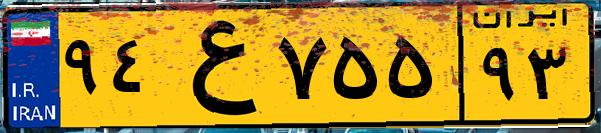3: (525, 38, 570, 115)
4: (110, 28, 158, 98)
5: (385, 28, 445, 110), (330, 28, 385, 110)
7: (270, 28, 330, 110)
9: (57, 26, 110, 100), (475, 38, 525, 113)
ع: (158, 12, 270, 120)
